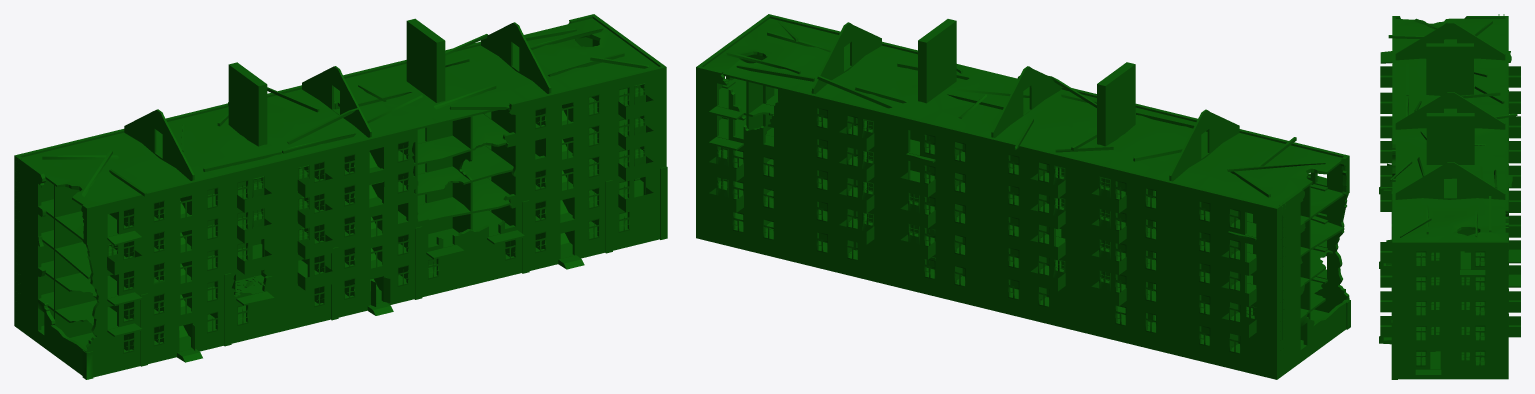
The model's file is Building_City_02Collision.FBX.
The picture shows the model from 3 angles, left to right: view 1: azimuth 30°, elevation 25°; view 2: azimuth 150°, elevation 25°; view 3: azimuth 270°, elevation 25°; orthographic projection. The views are drawn at different scales.
Visible parts, largest first — view 1: Building_City_02Collision, Building_City_02_Inter_Collision, Building_City_02Windows_Collision, Building_City_02Fences_Collision; view 2: Building_City_02Collision, Building_City_02_Inter_Collision, Building_City_02Fences_Collision, Building_City_02Windows_Collision; view 3: Building_City_02Collision, Building_City_02_Inter_Collision, Building_City_02Fences_Collision, Building_City_02Windows_Collision.
Boxes of the visible parts, x1,y1,x2,y2 form: Building_City_02Collision: (14,14,667,379); Building_City_02_Inter_Collision: (41,87,653,362); Building_City_02Windows_Collision: (123,87,629,353); Building_City_02Fences_Collision: (107,95,653,289); Building_City_02Collision: (696,14,1350,379); Building_City_02_Inter_Collision: (708,54,1344,351); Building_City_02Fences_Collision: (708,127,1256,336); Building_City_02Windows_Collision: (732,107,1310,354); Building_City_02Collision: (1386,16,1517,379); Building_City_02_Inter_Collision: (1379,51,1520,366); Building_City_02Fences_Collision: (1380,66,1520,336); Building_City_02Windows_Collision: (1416,251,1485,366).
Bounding box in the file's own units: 5717 × 1470 × 2118.
